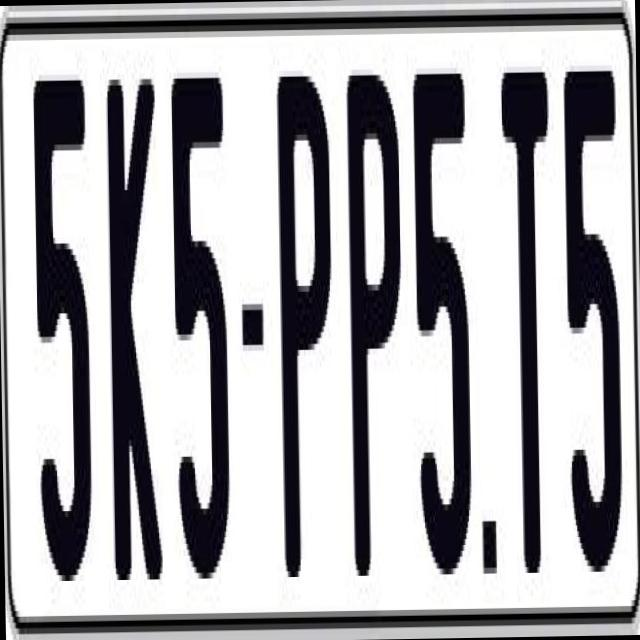5: (28, 74, 98, 610), (166, 77, 232, 614), (408, 73, 475, 592), (562, 64, 625, 601)
K: (106, 72, 168, 603)
P: (274, 58, 339, 582), (346, 74, 410, 605)
T: (498, 66, 554, 573)
